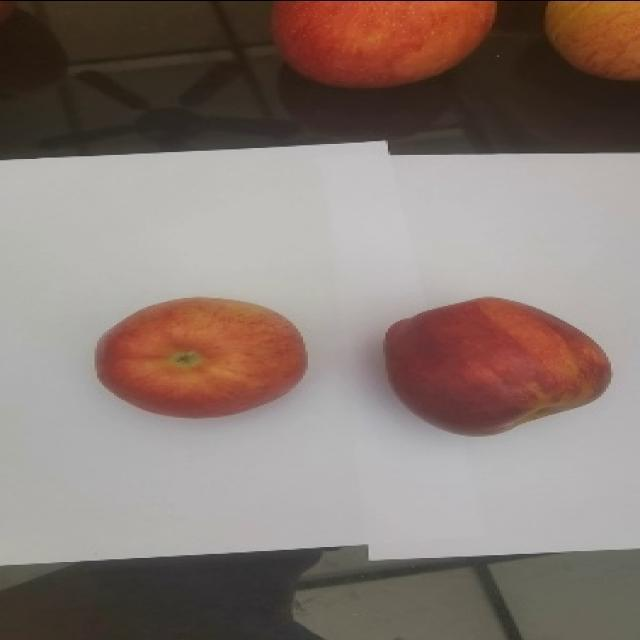Apple: (382, 295, 612, 436), (94, 296, 308, 419), (268, 0, 497, 89), (542, 0, 639, 81)
